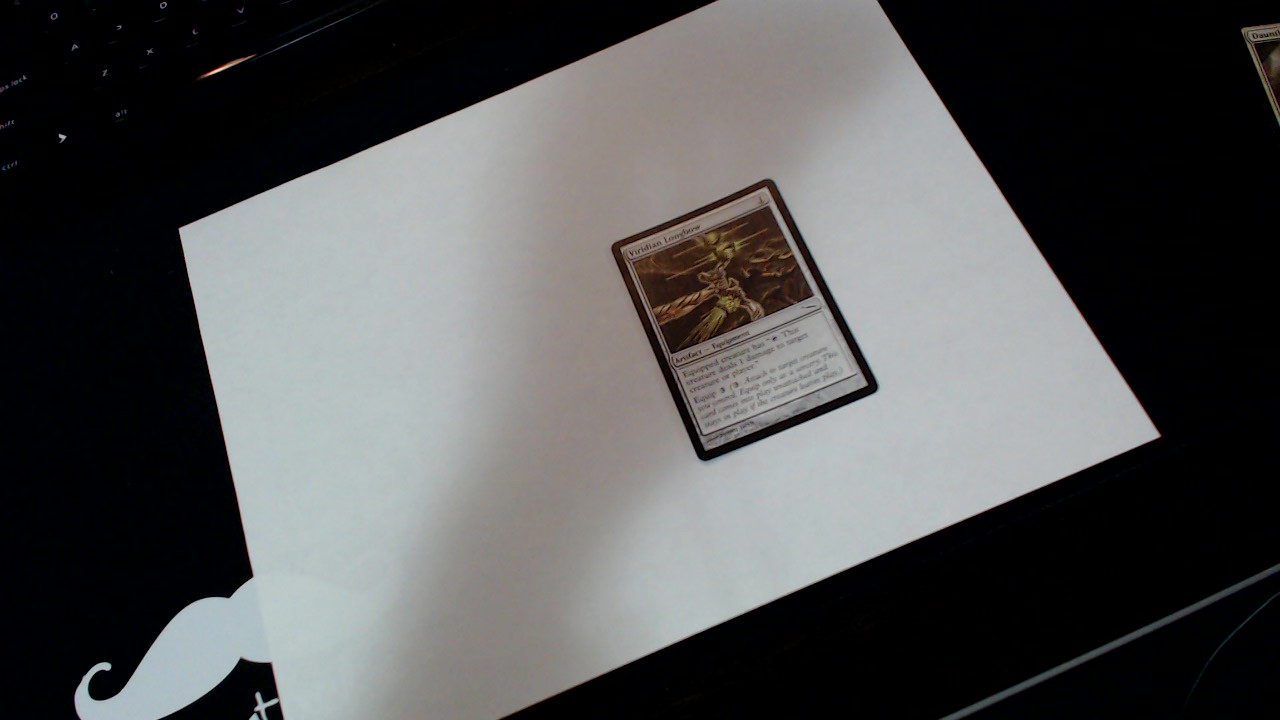MTG Card: (606, 173, 887, 470)
